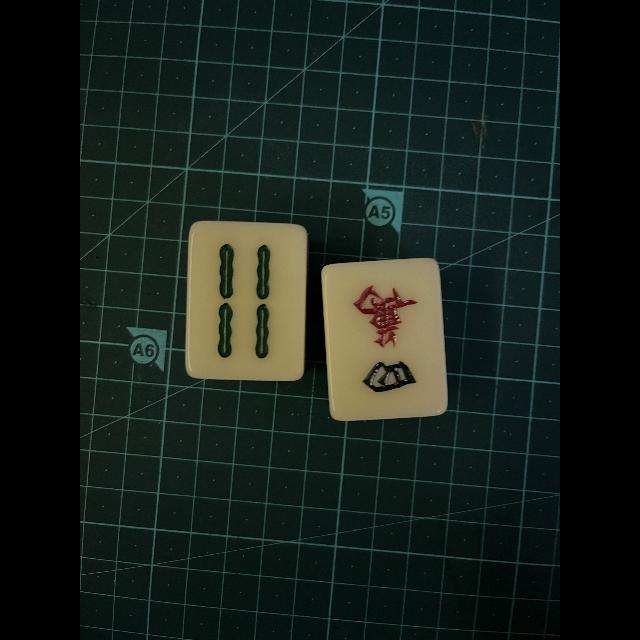b4: (192, 225, 300, 377)
c4: (328, 264, 444, 416)
